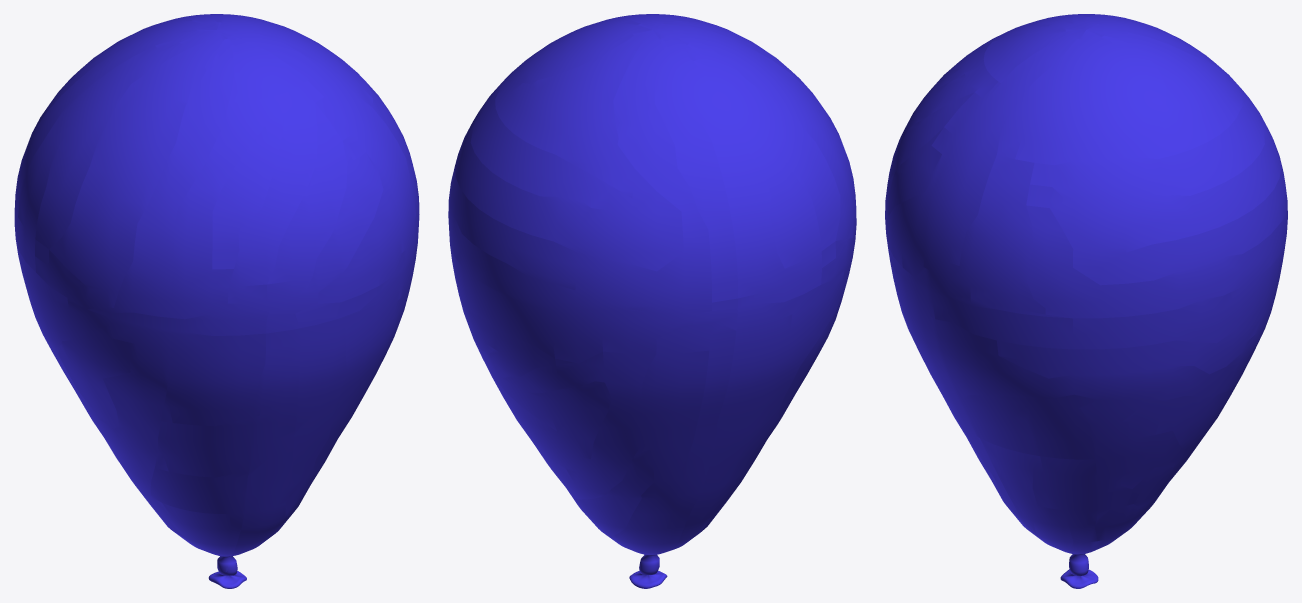
3 renders of one model, left to right at view 1: azimuth 30°, elevation 25°; view 2: azimuth 150°, elevation 25°; view 3: azimuth 270°, elevation 25°, orthographic.
Visible parts, largest first — view 1: Sphere; view 2: Sphere; view 3: Sphere.
Boxes of the visible parts, box(x1,y1,x2,y2) form: Sphere: box(14, 14, 419, 588); Sphere: box(448, 14, 856, 588); Sphere: box(885, 14, 1287, 588).
Bounding box in the file's own units: 1.91 × 2.87 × 1.91.
